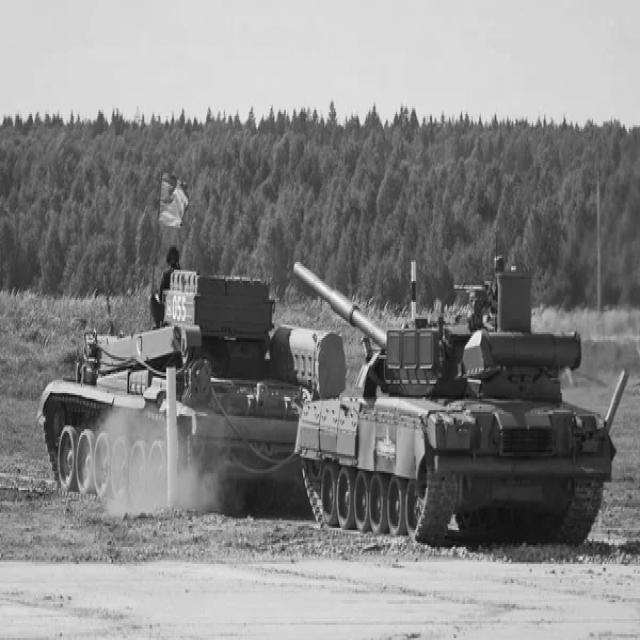Tank: (295, 244, 617, 550), (39, 244, 343, 527)
